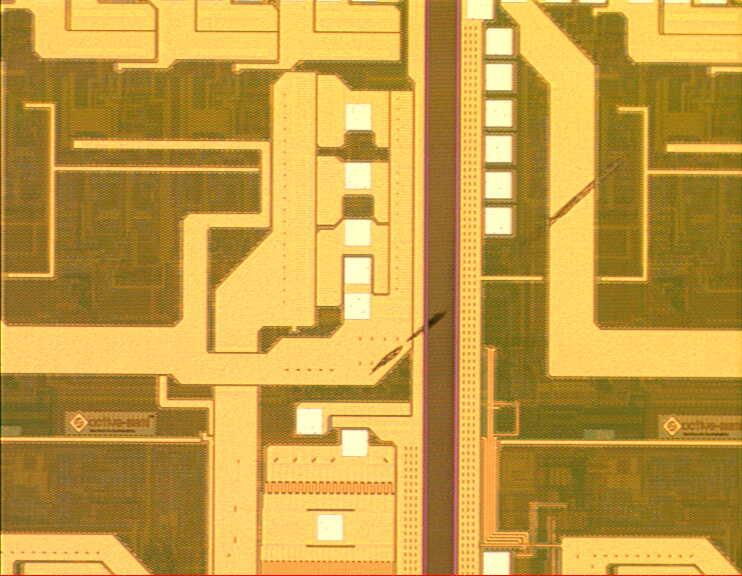SCRATCH: (352, 148, 637, 381)
